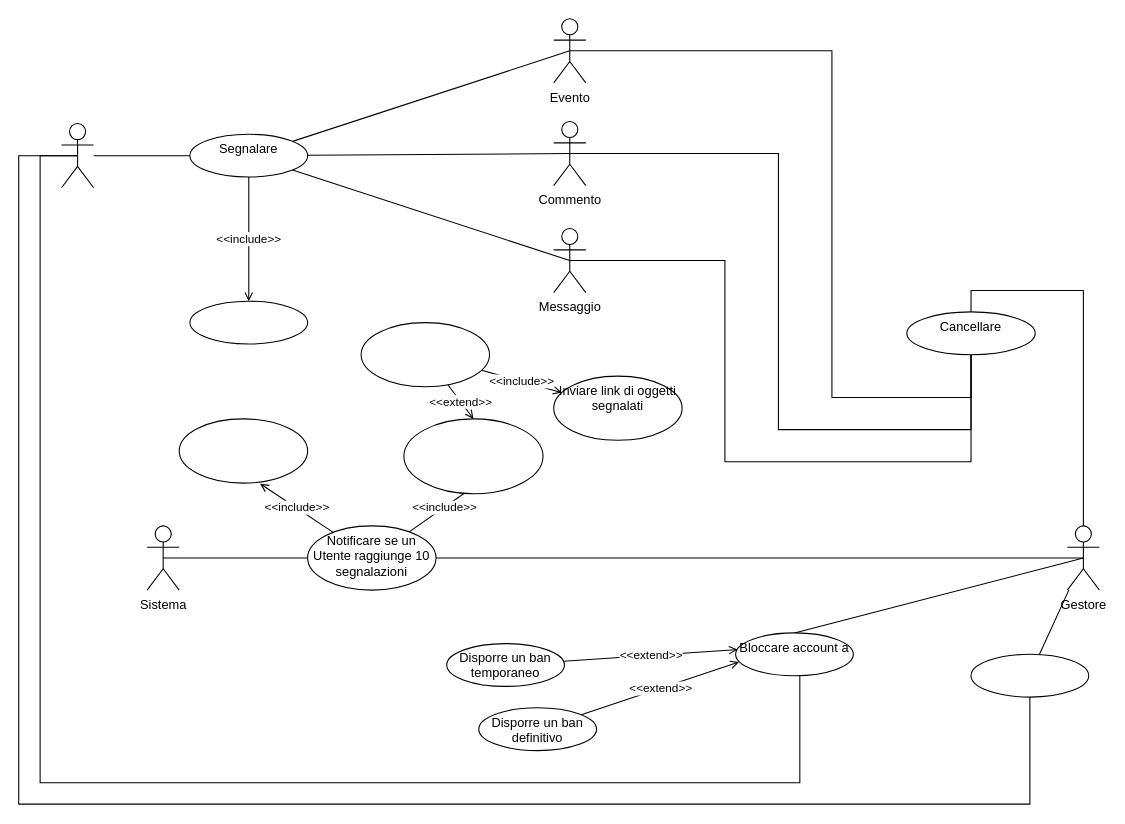
Some shapes in this 1125 by 824 pixel diagram are drawn without their labels. Here are the shapes that lost their labels. From the top down, the centre of each, then its label:
point 77,155: Utente
point 248,322: Indicare motivazione
point 425,354: Inviare segnalazioni a Commenti/Eventi
point 243,450: Inviare l'Username dell'Utente
point 473,456: Inviare lista delle segnalazioni (anonime) con commenti
point 1029,675: Sbloccare account a
